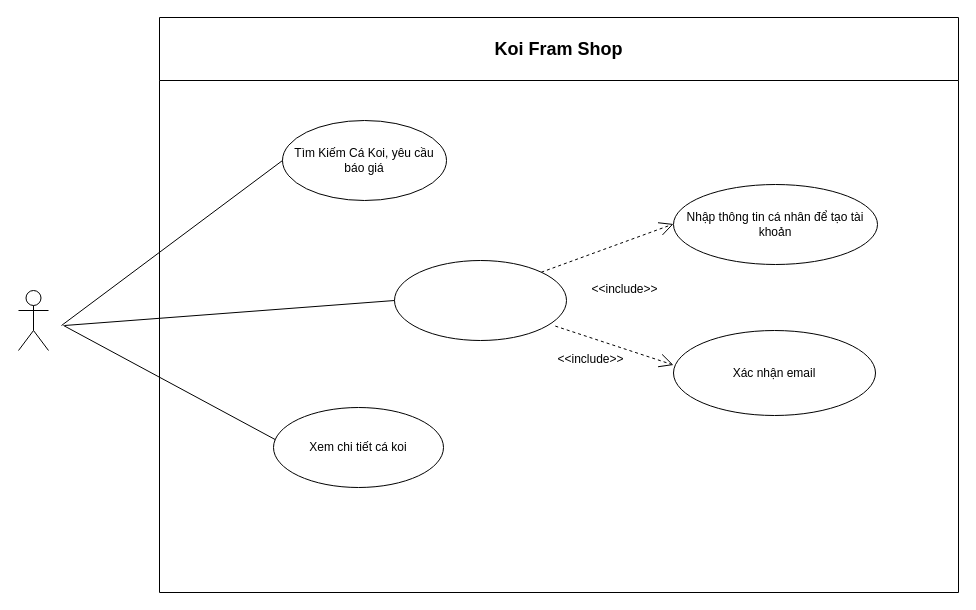
Image size: 976x610. Some labels were removed from this diagram. Each missing label, with the box of its shape:
Guest: (18, 290, 48, 350)
Đăng kí tài Khoản: (394, 260, 566, 340)
